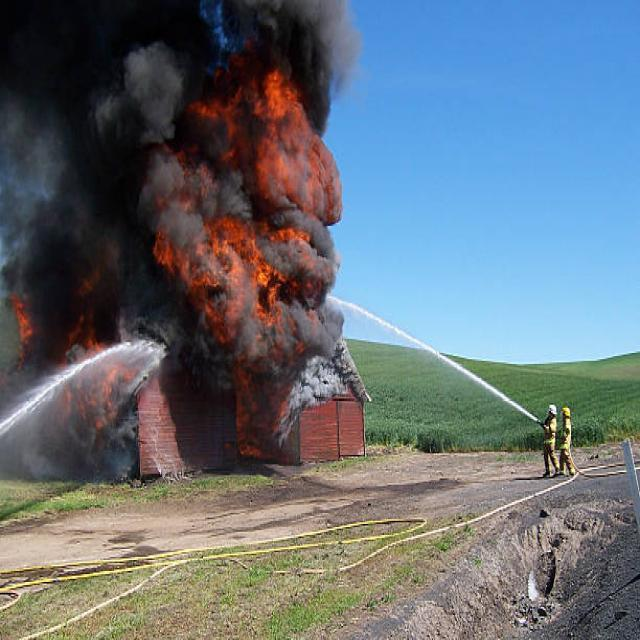Fire: (176, 90, 326, 378), (9, 272, 137, 423)
Smoke: (4, 2, 192, 336), (0, 309, 132, 482), (188, 0, 350, 134)
